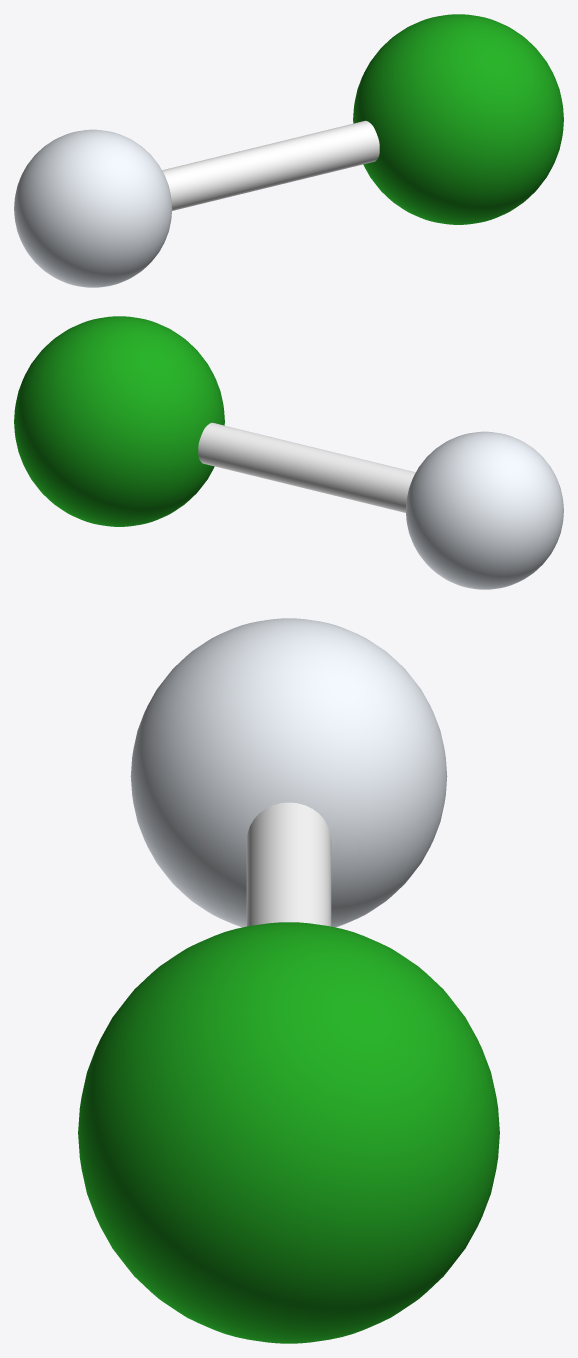
Rendered from hydrogen_chloride.fbx.
3 renders of one model, top to bottom at view 1: azimuth 30°, elevation 25°; view 2: azimuth 150°, elevation 25°; view 3: azimuth 270°, elevation 25°, orthographic. The views are drawn at different scales.
Visible parts, largest first — view 1: hydrogen_chloride; view 2: hydrogen_chloride; view 3: hydrogen_chloride.
Part boxes in pixels (x1=…): hydrogen_chloride: x1=14, y1=14, x2=563, y2=287; hydrogen_chloride: x1=14, y1=316, x2=563, y2=589; hydrogen_chloride: x1=78, y1=618, x2=499, y2=1343.
Bounding box in the file's own units: 115 × 40 × 40.
